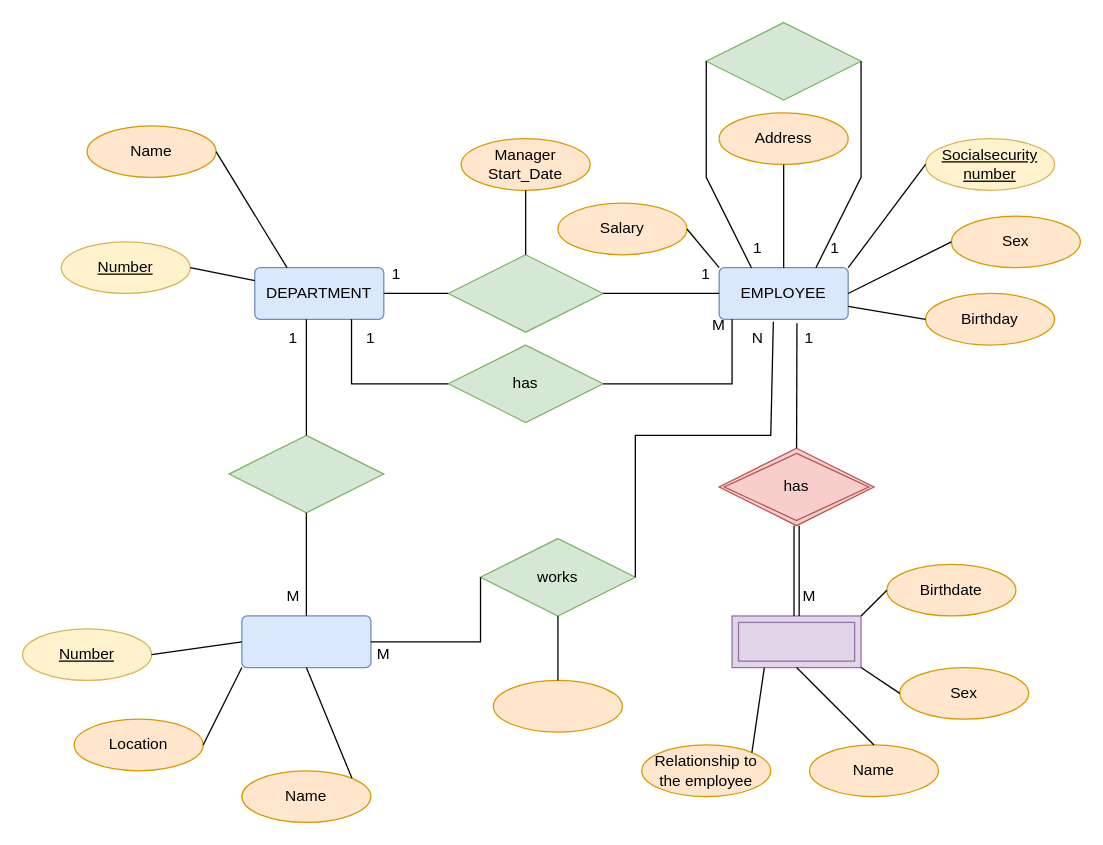
Some shapes in this 1103 by 845 pixel diagram are drawn without their labels. Here are the shapes that lost their labels. From the top down, the centre of each, then its label:
At (783,60): "Supervised by".
At (525,292): "is_managed".
At (306,473): "controls".
At (306,641): "PROJECTS".
At (796,641): "DEPENDENT".
At (557,705): "Number_of Hours_per_week".
